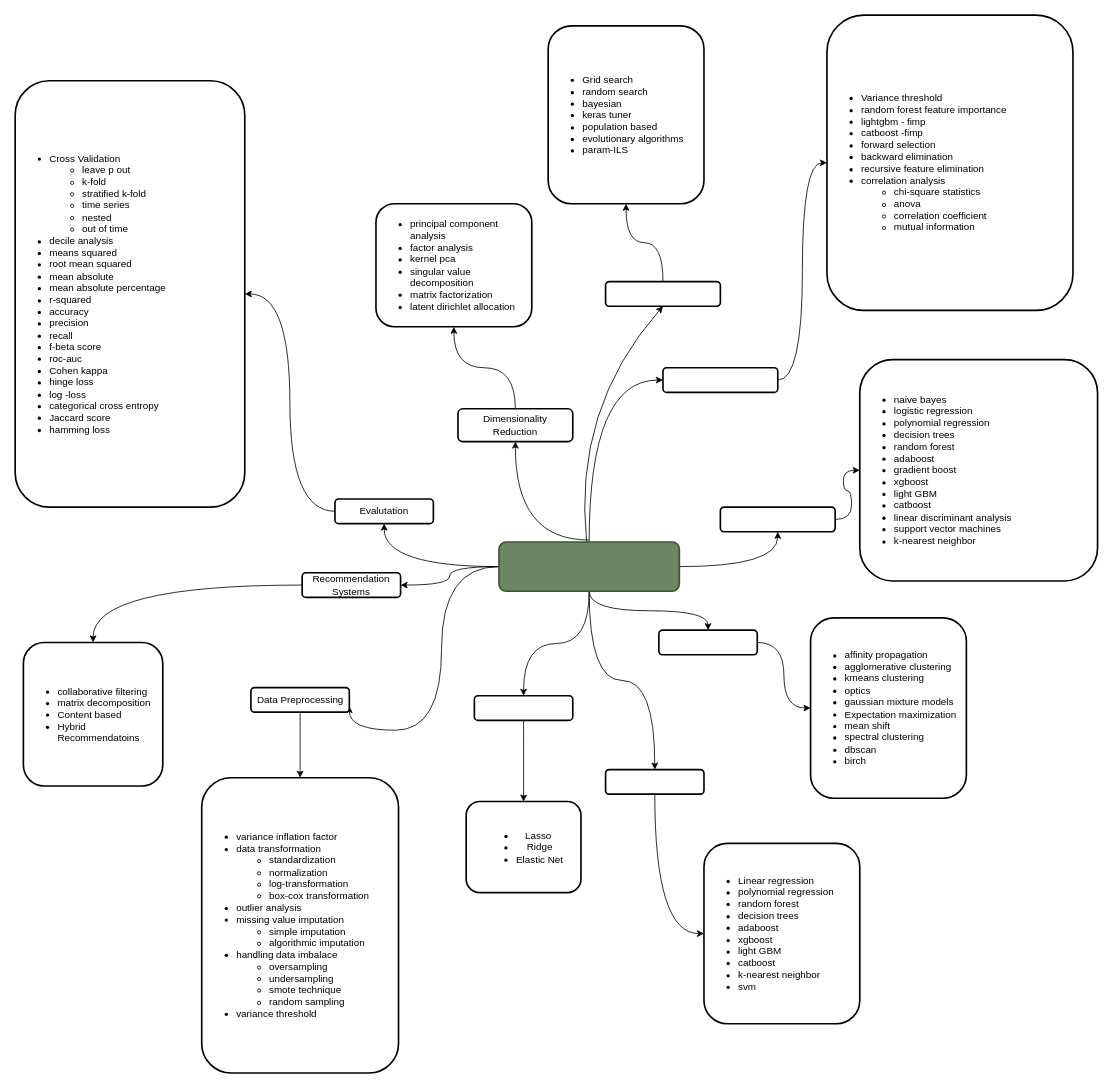
Some shapes in this 1112 by 1087 pixel diagram are drawn without their labels. Here are the shapes that lost their labels. From the top down, the centre of each, then its label:
point 662,293: Hyperparameter Tuning
point 720,380: Feature Selection
point 777,519: Classification
point 589,566: machine learning
point 708,642: Clustering
point 523,708: Regularization
point 654,781: Regression
